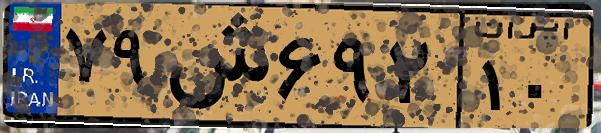0: (525, 38, 570, 115)
1: (475, 38, 525, 113)
2: (385, 28, 445, 110)
6: (270, 28, 330, 110)
7: (57, 26, 110, 100)
9: (330, 28, 385, 110), (110, 28, 158, 98)
ش: (158, 12, 270, 120)
